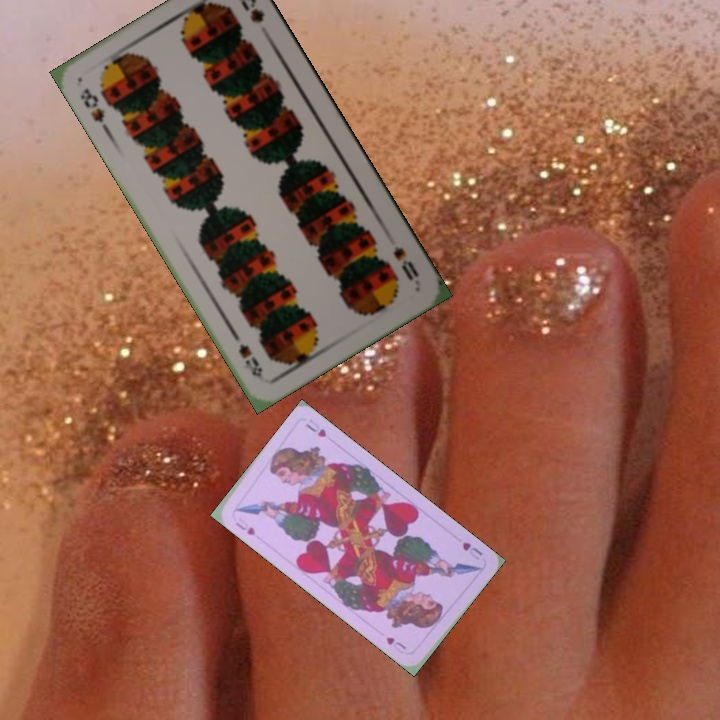HU: (458, 538, 485, 562), (231, 514, 258, 538)
S8: (75, 84, 112, 135), (389, 242, 422, 284)
